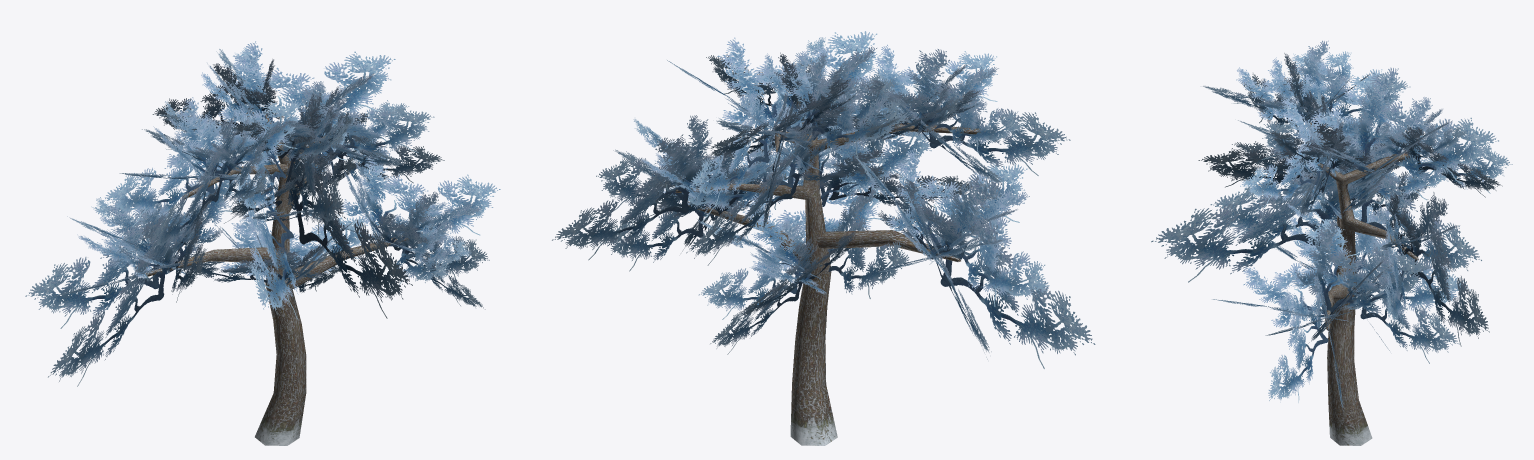
File: Tree_songshu_01.FBX
3 views of the same model, side by side, from view 1: azimuth 30°, elevation 25°; view 2: azimuth 150°, elevation 25°; view 3: azimuth 270°, elevation 25° (orthographic). The views are drawn at different scales.
Parts seen in each view (by area): view 1: Tree_songshu_01; view 2: Tree_songshu_01; view 3: Tree_songshu_01.
Part boxes in pixels (x1=…): Tree_songshu_01: x1=25, y1=41, x2=500, y2=445; Tree_songshu_01: x1=552, y1=31, x2=1095, y2=445; Tree_songshu_01: x1=1151, y1=40, x2=1512, y2=445.
Bounding box in the file's own units: 2267 × 1798 × 1656.
